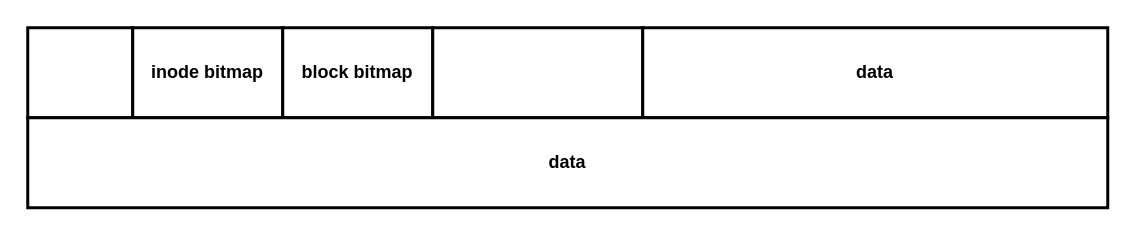
Image size: 1134x234. Some labels were removed from this diagram. Here are the shapes that lost their labels. From the top down, the centre of each, then its label:
point (80, 72): super
point (537, 72): inode table
